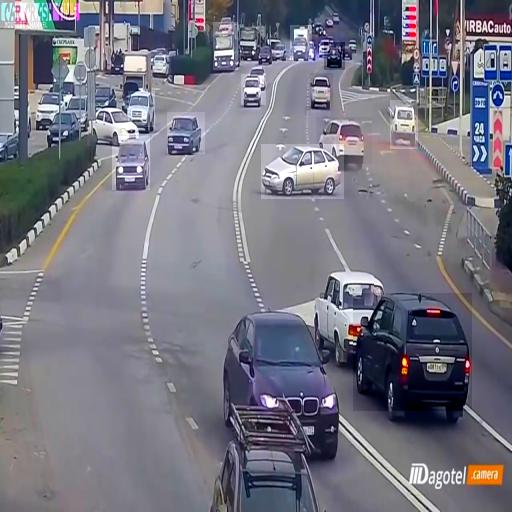小汽车: (221, 307, 340, 452), (353, 293, 472, 411), (315, 252, 374, 356), (261, 144, 344, 199), (316, 117, 372, 164), (87, 103, 140, 146), (112, 136, 150, 190), (168, 112, 206, 154), (42, 112, 82, 150), (390, 100, 418, 149), (213, 22, 238, 70), (128, 91, 155, 127), (36, 86, 57, 131), (310, 73, 333, 108), (241, 74, 266, 105), (290, 25, 312, 60), (324, 42, 345, 70), (152, 48, 172, 76), (258, 42, 276, 66)
